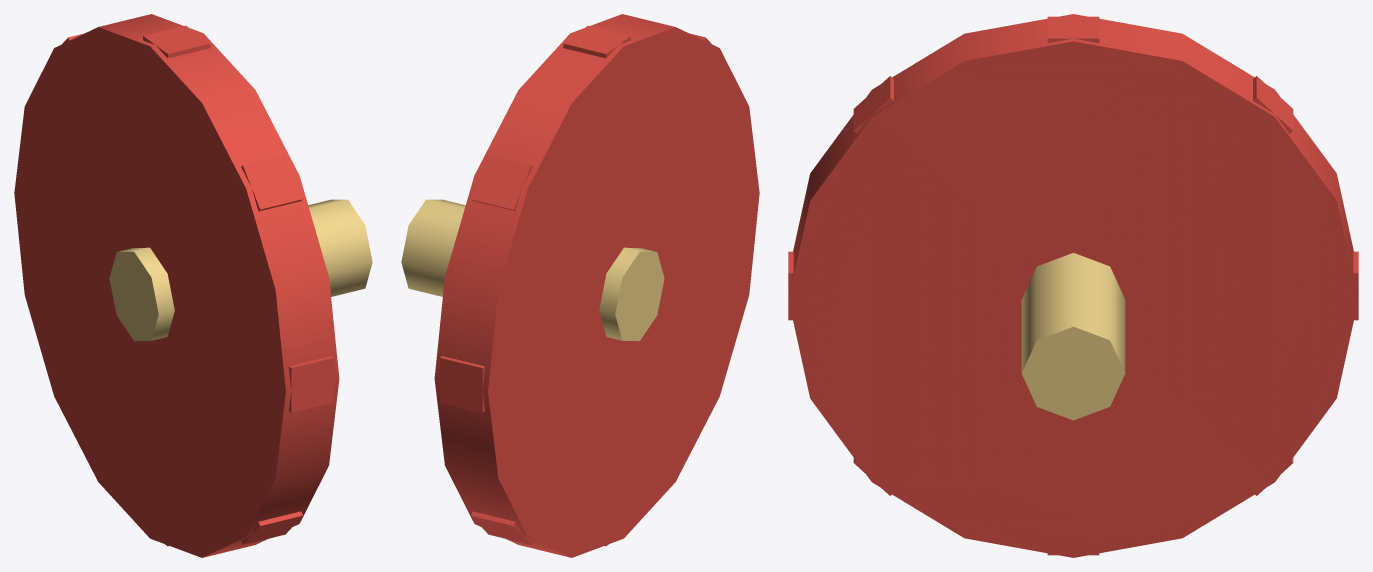
File: steam_valve.glb
3 renders of one model, left to right at view 1: azimuth 30°, elevation 25°; view 2: azimuth 150°, elevation 25°; view 3: azimuth 270°, elevation 25°, orthographic. The views are drawn at different scales.
Visible parts, largest first — view 1: steam_valve; view 2: steam_valve; view 3: steam_valve.
Part boxes in pixels (x1=…): steam_valve: x1=14, y1=14, x2=372, y2=557; steam_valve: x1=401, y1=14, x2=759, y2=557; steam_valve: x1=788, y1=14, x2=1358, y2=557.
Size of the model in its own units: 0.1 by 0.22 by 0.22.
